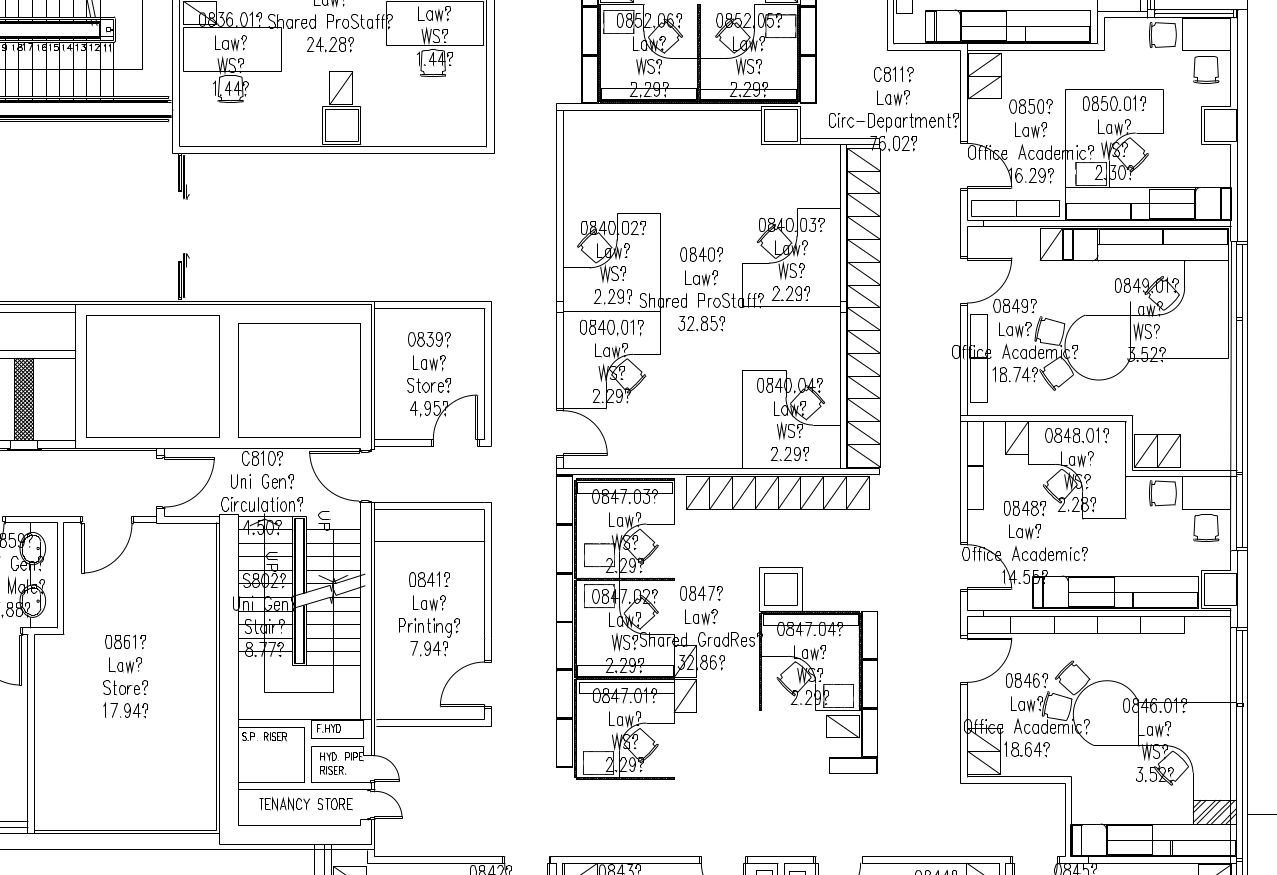door: (956, 532, 1017, 597), (159, 454, 220, 510), (75, 522, 136, 578), (425, 656, 486, 712), (959, 634, 1014, 690), (962, 253, 1017, 309), (961, 139, 1016, 195), (556, 407, 611, 463), (424, 392, 479, 448), (304, 448, 359, 504), (371, 749, 412, 788), (368, 785, 409, 824)
